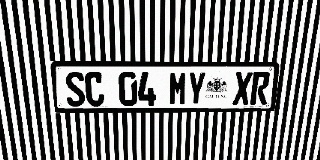0: (118, 72, 137, 106)
4: (138, 72, 156, 106)
C: (84, 72, 105, 106)
M: (169, 72, 187, 106)
R: (250, 72, 271, 105)
S: (64, 72, 86, 106)
X: (232, 72, 253, 105)
Y: (187, 72, 206, 105)
